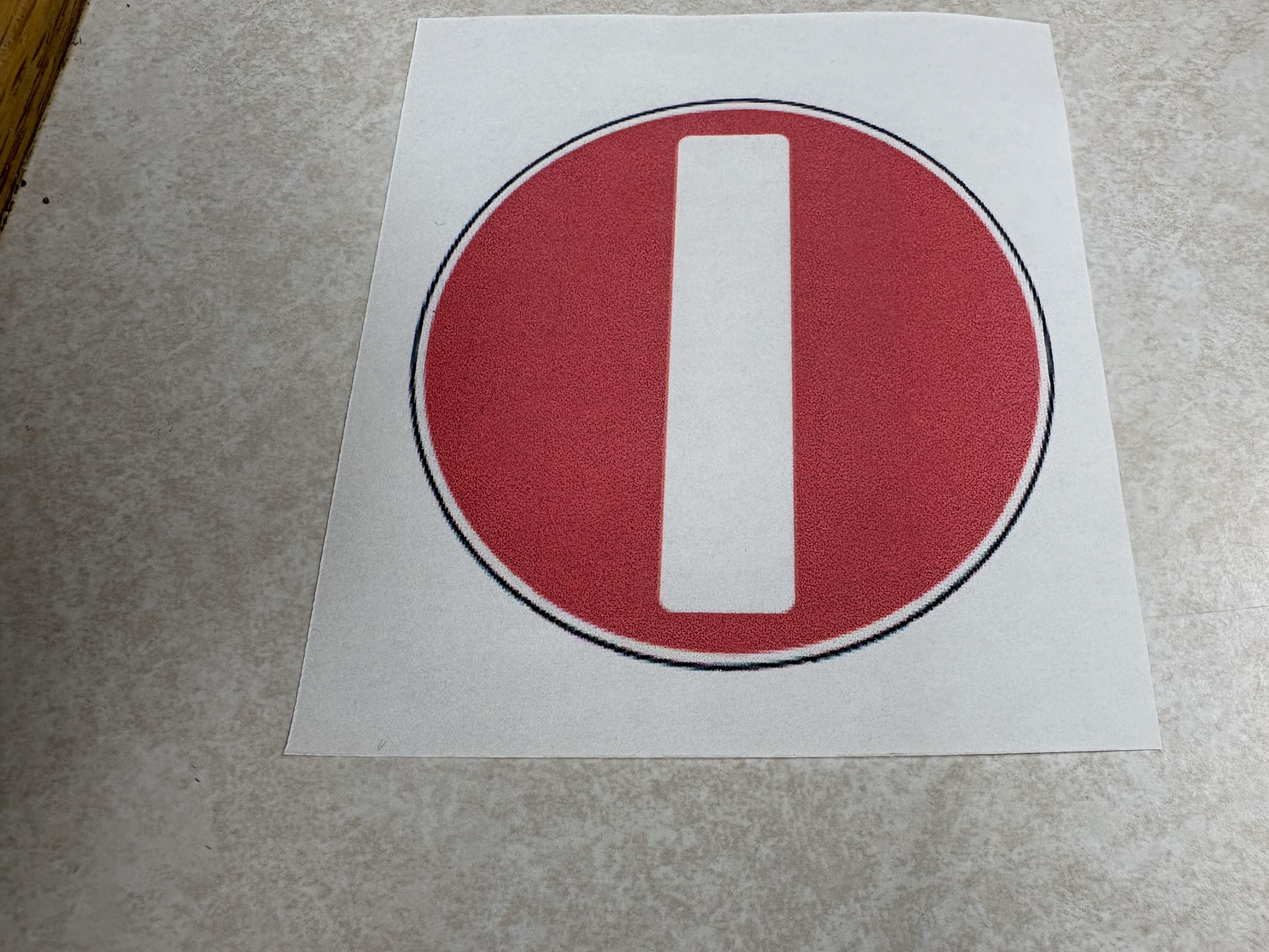No Entry: (286, 20, 1166, 756)
